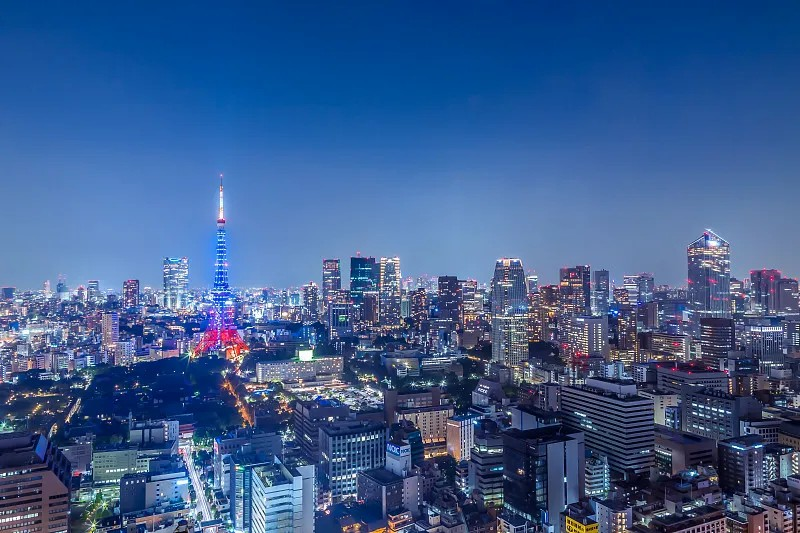Tokyo: (191, 170, 249, 362)
